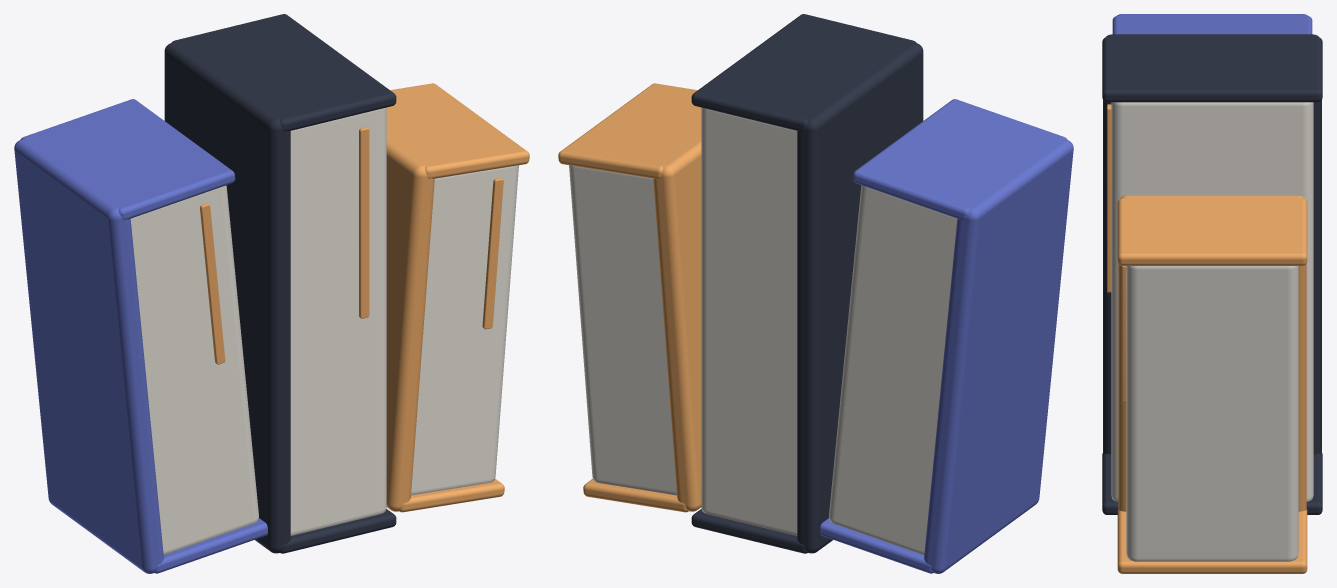
Rendered from books.glb.
The picture shows the model from 3 angles, left to right: view 1: azimuth 30°, elevation 25°; view 2: azimuth 150°, elevation 25°; view 3: azimuth 270°, elevation 25°; orthographic projection.
Visible parts, largest first — view 1: books; view 2: books; view 3: books.
Boxes of the visible parts, x1,y1,x2,y2 form: books: (14,14,529,573); books: (558,14,1073,573); books: (1102,14,1322,573).
Bounding box in the file's own units: 1.89 × 1.87 × 0.87.
